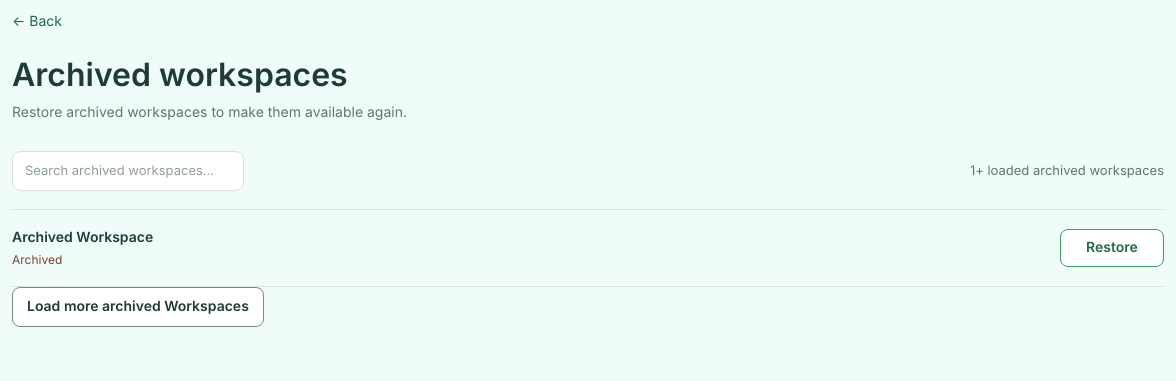
Scenario: Workspace management › paginates archived Workspaces from its dedicated route with a backend cursor
Click the button "Load more archived Workspaces": point(138, 307) [12, 287, 264, 327]
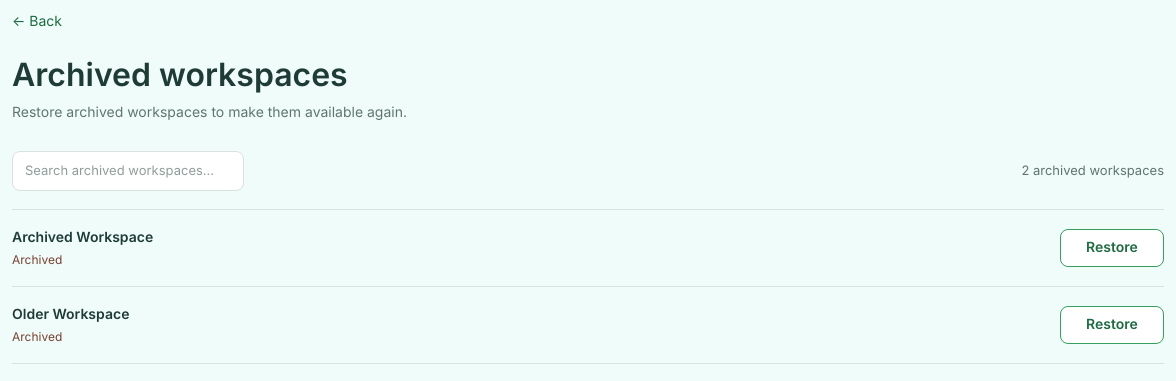
Now the link "Older Workspace" is shown, box [12, 305, 129, 325]
